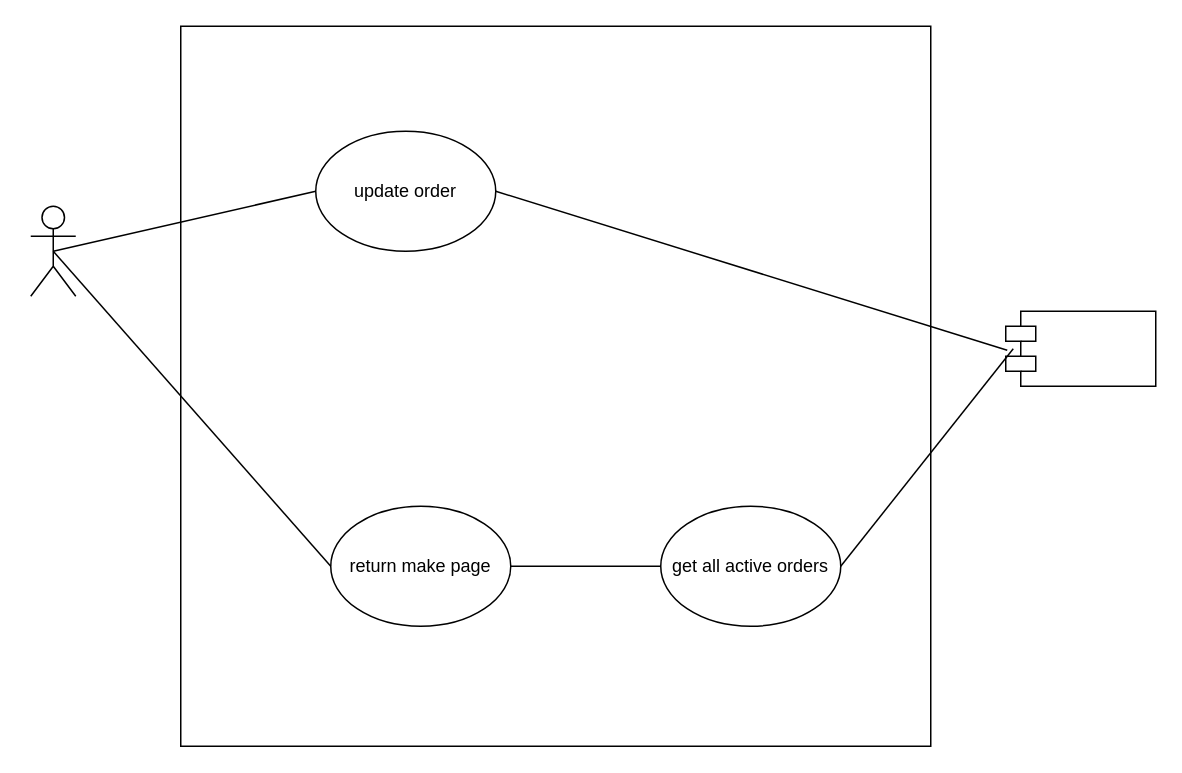
Image size: 1182x773. Some labels were removed from this diagram. The centre of each missing label's shape, as x and y in pixels:
"make module" belongs at (x=1080, y=348).
"worker" belongs at (x=52, y=250).
